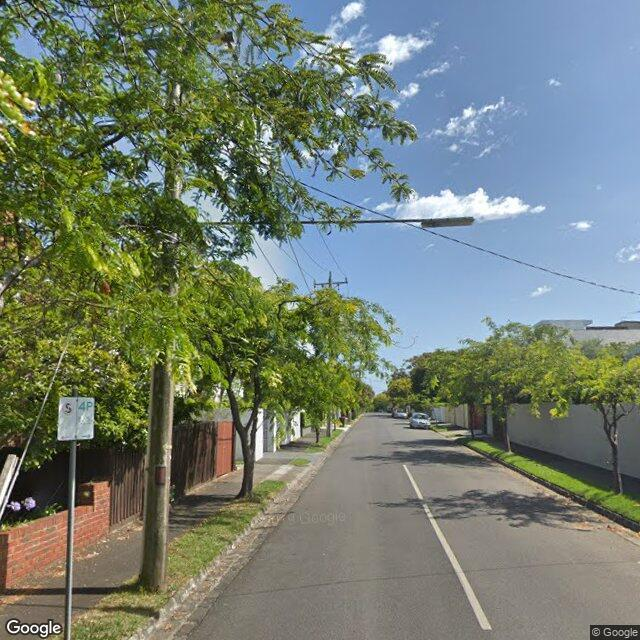HV-transmission: (313, 277, 348, 290)
crossarm: (313, 281, 350, 286)
streetlight: (178, 214, 476, 228)
timber-pole: (137, 19, 183, 588), (329, 271, 331, 288)
